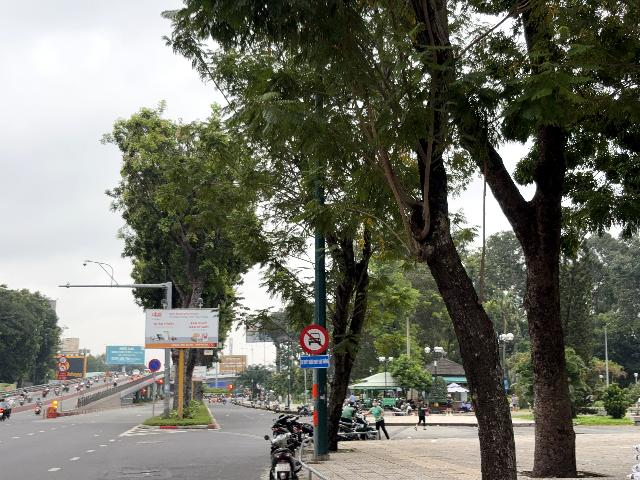cam-o-to: (300, 324, 329, 354)
